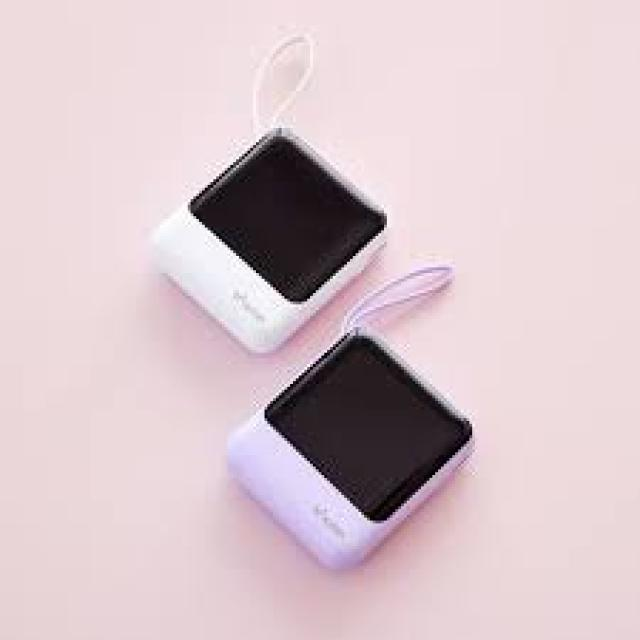portable-charger: (228, 319, 490, 575), (145, 129, 391, 361)
